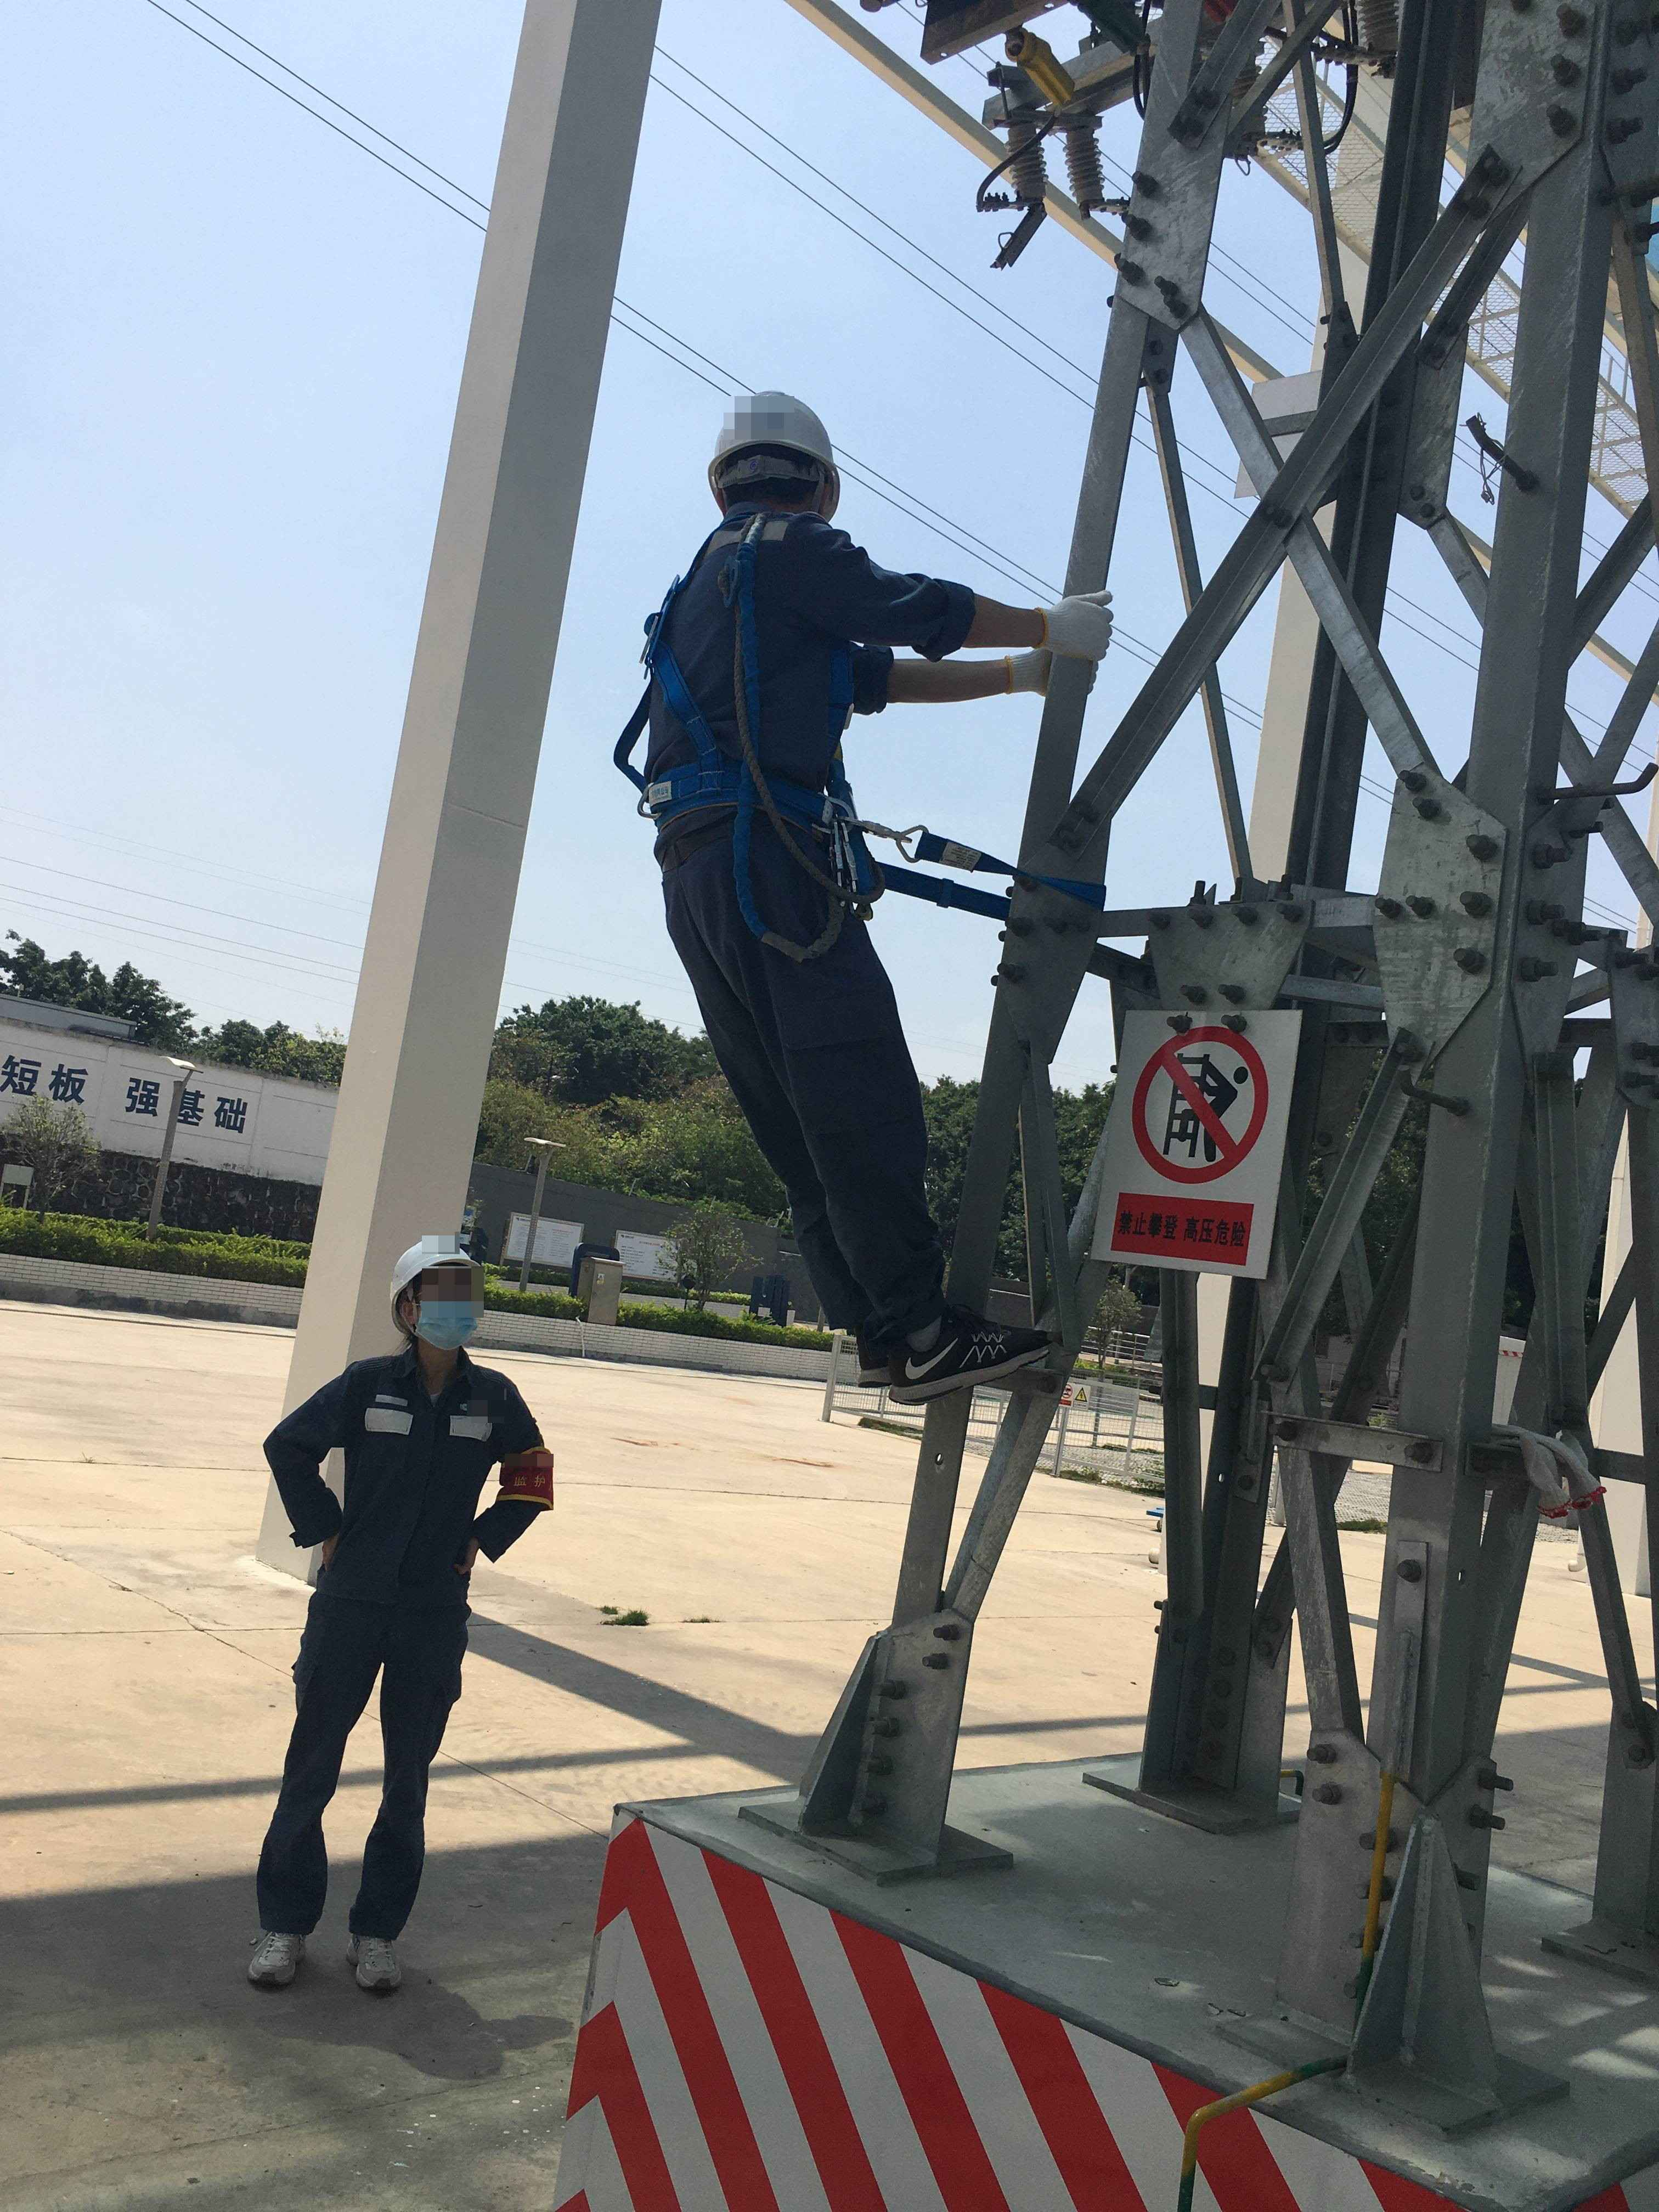downsuit: (660, 843, 958, 1341), (258, 1597, 471, 1949)
upsuit: (641, 512, 979, 815), (263, 1352, 554, 1588)
wrongtop: (873, 583, 1049, 712)
